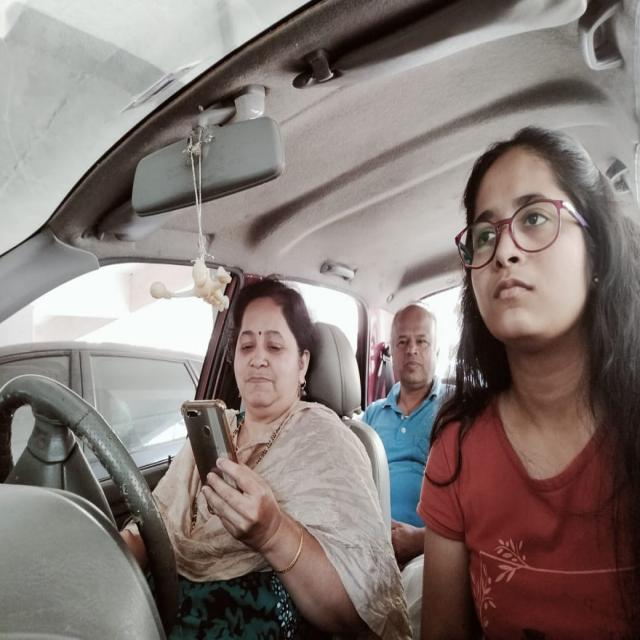mobile: (178, 385, 238, 495)
person: (458, 126, 608, 350), (232, 286, 307, 410), (382, 289, 446, 403)
